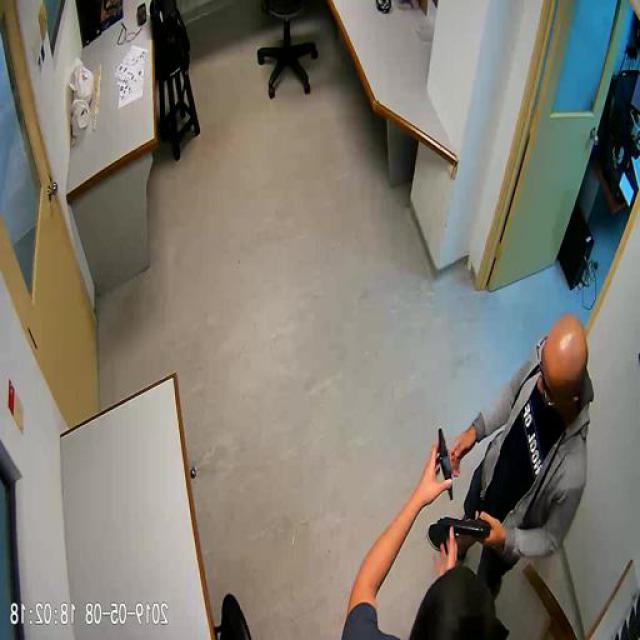Gun: (438, 512, 492, 538)
